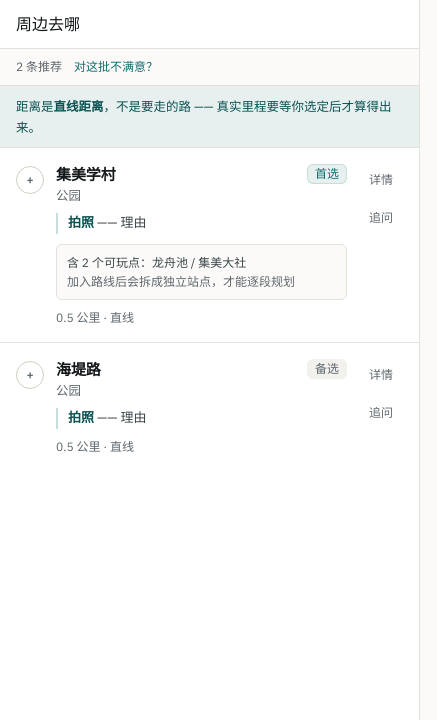
结果页 · 追问新增项的归属 › 整批追问没有锚点，新增项平铺，不挂在任何地点下
Click the button "对这批不满意？" at (116, 67), box [74,59,158,75]
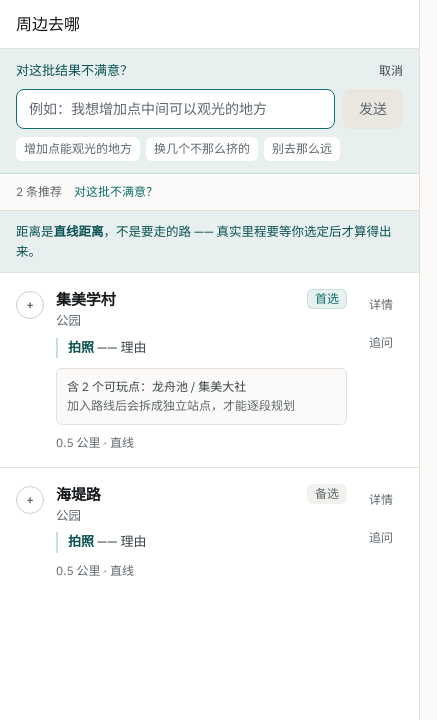
Type "换几个不那么挤的" into the field with placeholder "例如：我想增加点中间可以观光的地方" at (176, 108), box [16,88,335,128]
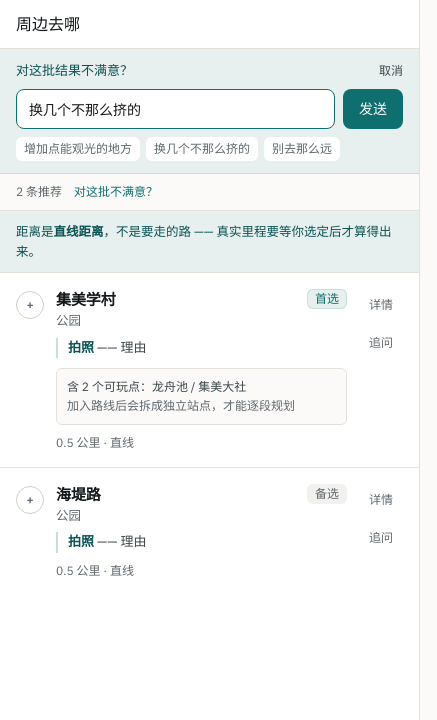
Click the button "发送" at (373, 108), box [343,88,403,128]
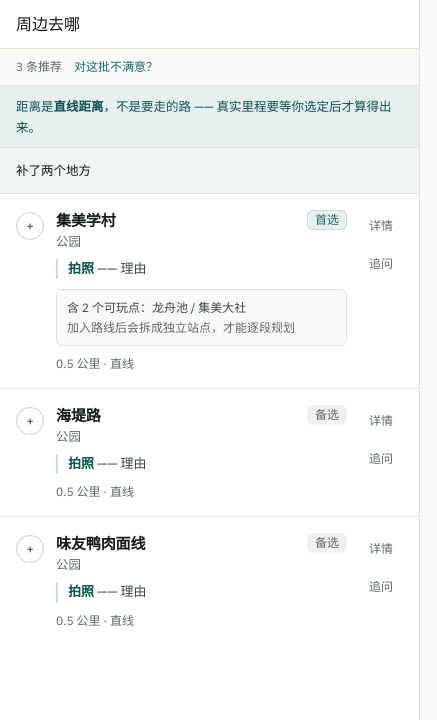
Result: the text "味友鸭肉面线" is shown at [56,534,145,553]
